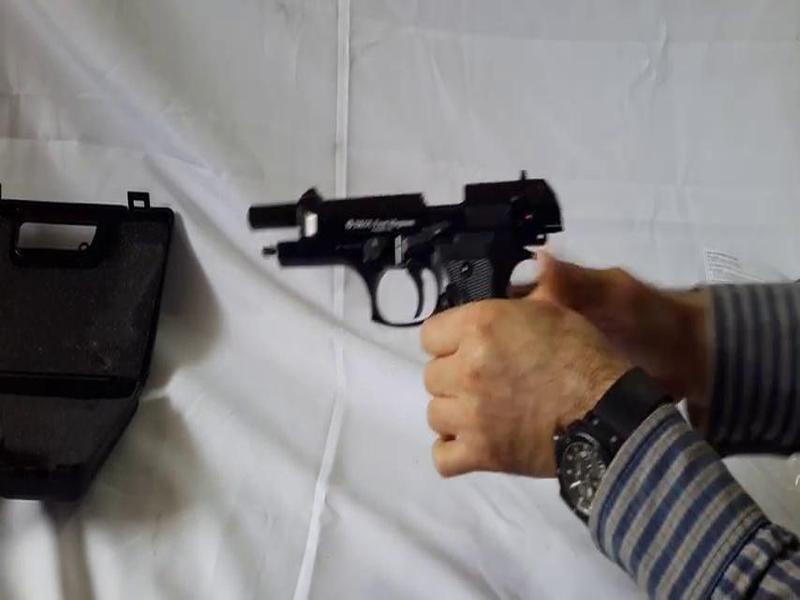Pistola: (243, 146, 591, 379)
